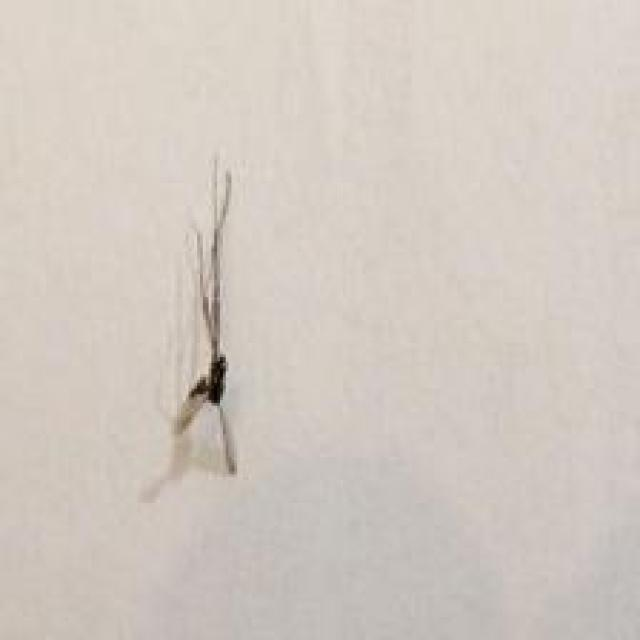Aedes albopictus: (138, 150, 242, 501)
